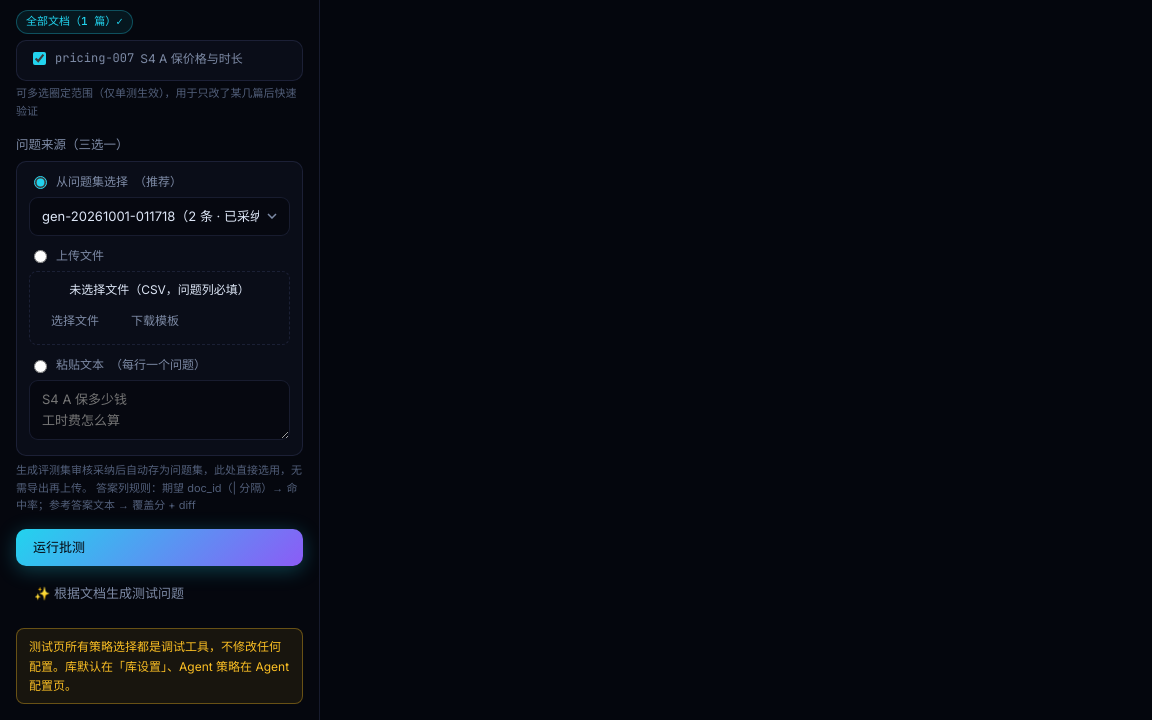
Test: KbTestPage › runs a batch test from a question set and renders the metric bar and diff
(page scrolled)
Click the button with test id "run-batch".
click(59, 547)  # box [16, 529, 303, 566]
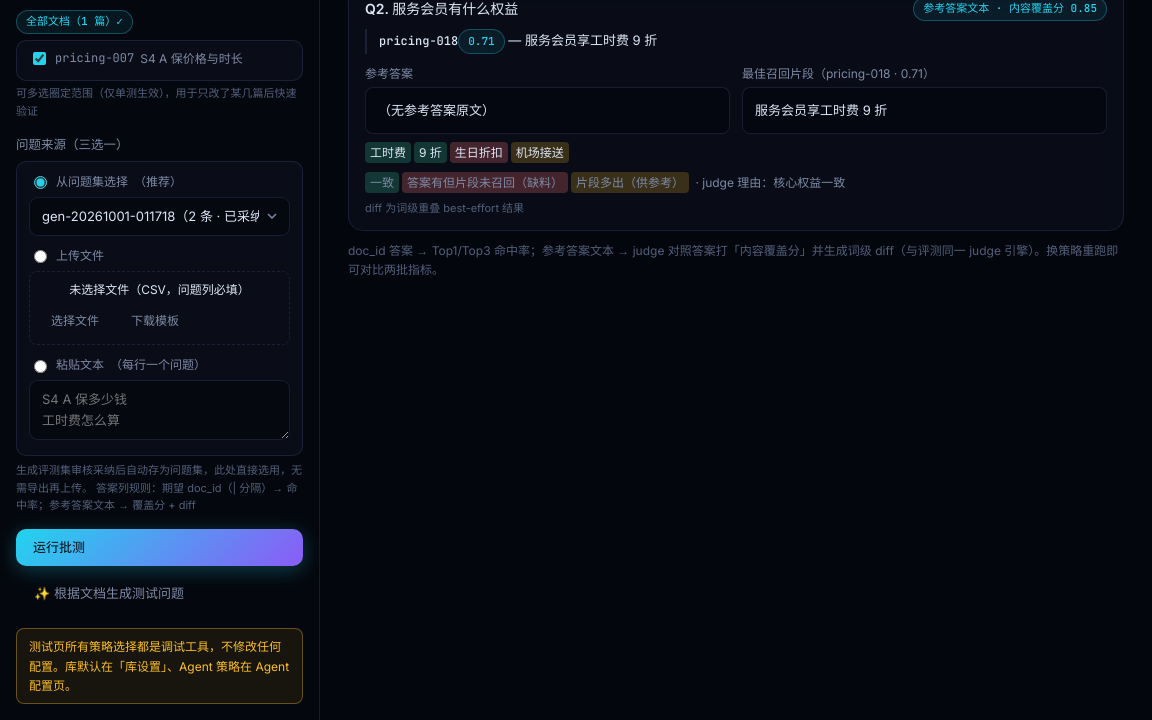
Now the text "内容覆盖分 0.85" is shown, box [923, 1, 1097, 15]
Now the text with class "kb-diff-miss" reads "生日折扣", box [455, 145, 503, 160]
Now the text with class "kb-diff-extra" reads "机场接送", box [516, 145, 564, 160]
